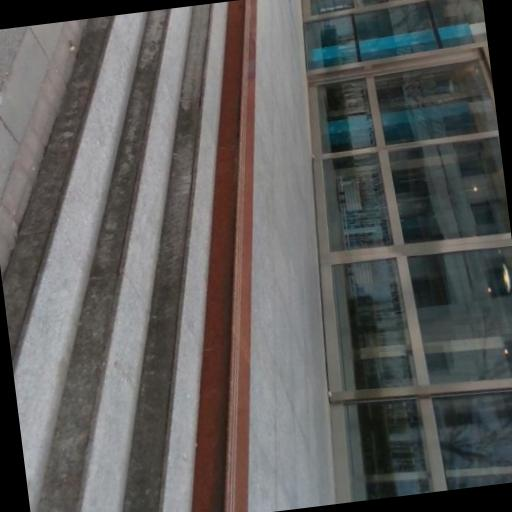stairs: (3, 2, 226, 511)
